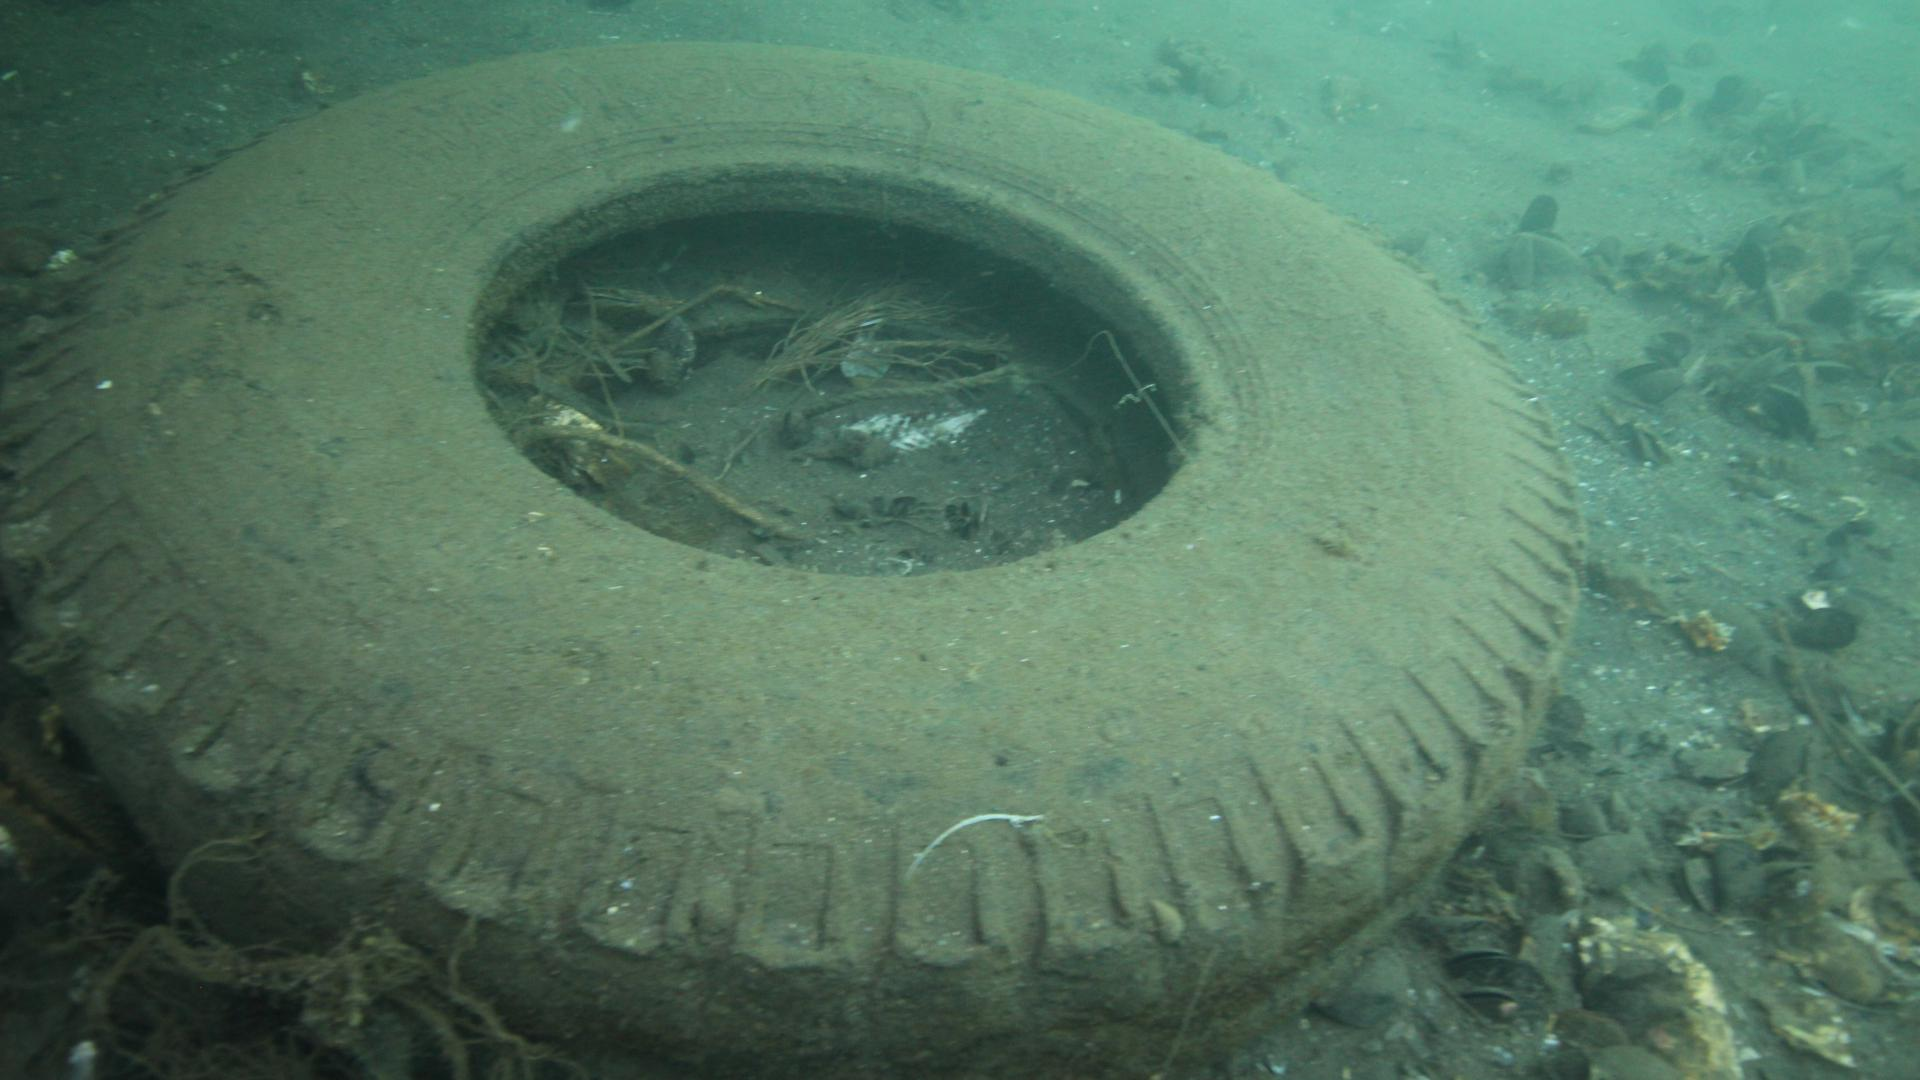tire: (0, 36, 1586, 1080)
